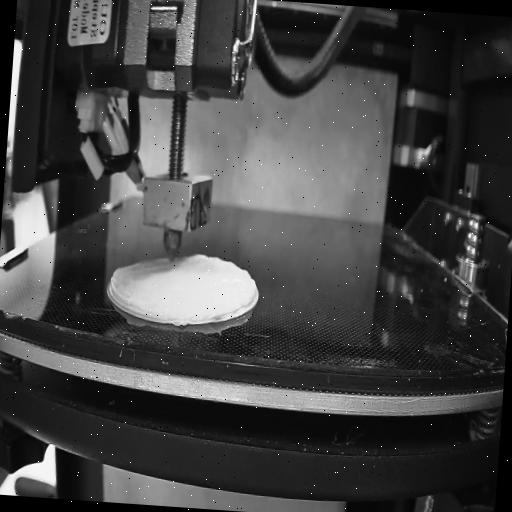over_extrusion: (188, 250, 260, 314), (108, 260, 142, 314)
